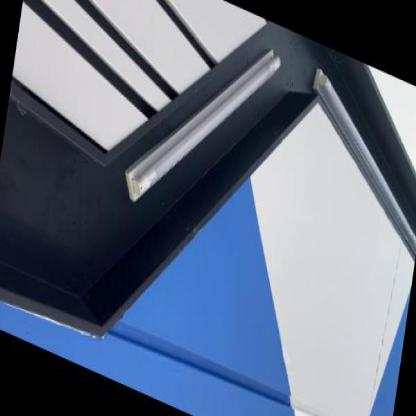light_off: (116, 0, 291, 274), (286, 53, 415, 303)
